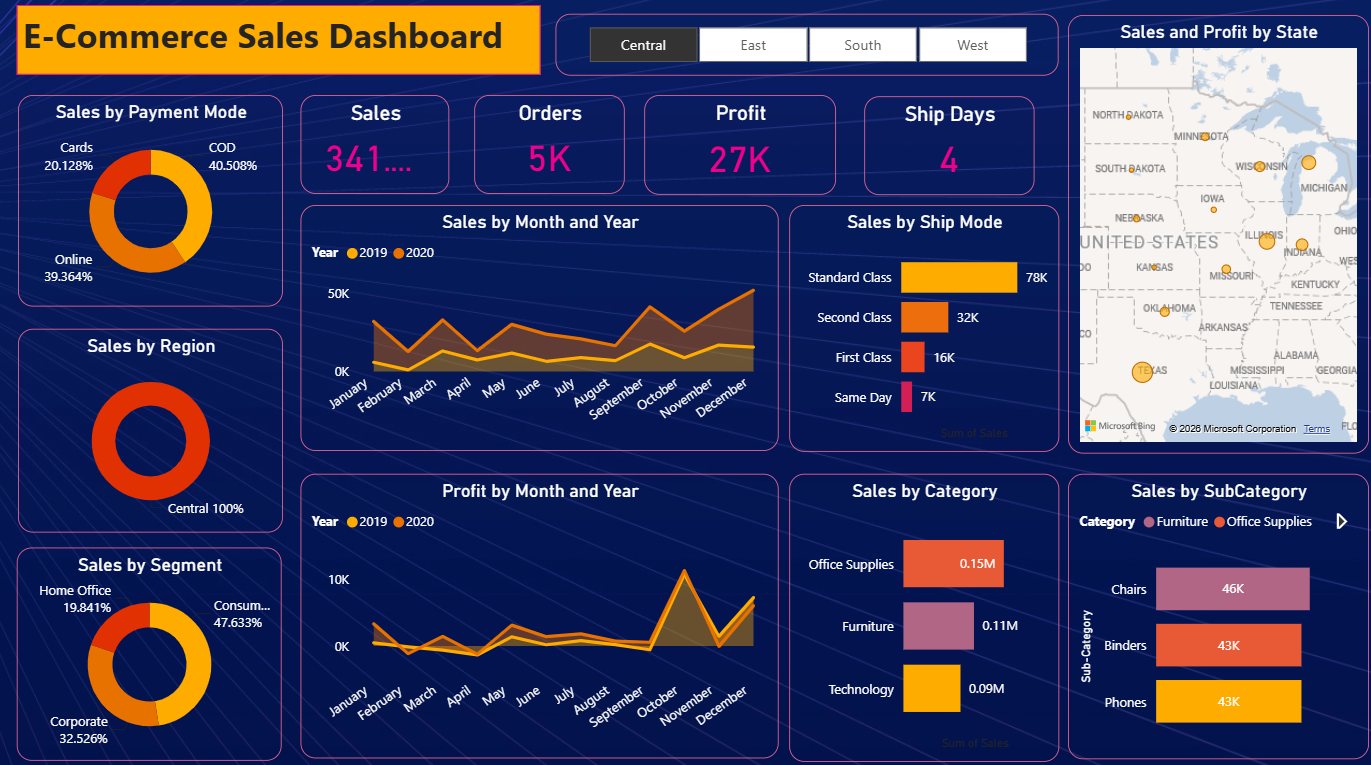

What the dashboard file says about the page in this screenshot:
{"tool":"powerbi","page":{"name":"Page 1","canvas":[1280,720],"ordinal":0},"visuals":[{"type":"clusteredBarChart","title":" Sales by Category","fields":{"Category":["SuperStore_Sales_Dataset.Category"],"Y":["Sum(SuperStore_Sales_Dataset.Sales)"]},"box":[735.9,445.2,250.9,267.8],"z":0},{"type":"barChart","title":" Sales by SubCategory","fields":{"Category":["SuperStore_Sales_Dataset.Sub-Category"],"Series":["SuperStore_Sales_Dataset.Category"],"Y":["Sum(SuperStore_Sales_Dataset.Sales)"]},"box":[995.3,445.2,279.9,265.4],"z":1000},{"type":"clusteredBarChart","title":" Sales by Ship Mode","fields":{"Category":["SuperStore_Sales_Dataset.Ship Mode"],"Y":["Sum(SuperStore_Sales_Dataset.Sales)"]},"box":[735.9,195.4,250.9,229.2],"z":2000},{"type":"stackedAreaChart","title":" Sales by Month and Year","fields":{"Category":["SuperStore_Sales_Dataset.Order Date.Variation.Date Hierarchy.Month","SuperStore_Sales_Dataset.Order Date.Variation.Date Hierarchy.Day"],"Series":["SuperStore_Sales_Dataset.Order Date.Variation.Date Hierarchy.Year"],"Y":["Sum(SuperStore_Sales_Dataset.Sales)"]},"box":[281.2,195,445,228.8],"z":3000},{"type":"stackedAreaChart","title":"Profit by Month and Year","fields":{"Category":["SuperStore_Sales_Dataset.Order Date.Variation.Date Hierarchy.Month","SuperStore_Sales_Dataset.Order Date.Variation.Date Hierarchy.Day"],"Series":["SuperStore_Sales_Dataset.Order Date.Variation.Date Hierarchy.Year"],"Y":["Sum(SuperStore_Sales_Dataset.Profit)"]},"box":[281.2,445,445,265],"z":4000},{"type":"donutChart","title":"Sales by Segment","fields":{"Category":["SuperStore_Sales_Datasetx.Segment"],"Y":["Sum(SuperStore_Sales_Datasetx.Sales)"]},"box":[17.4,514.3,246.6,198],"z":5000},{"type":"donutChart","title":"Sales by Payment Mode","fields":{"Category":["SuperStore_Sales_Datasetx.Payment Mode"],"Y":["Sum(SuperStore_Sales_Datasetx.Sales)"]},"box":[18.7,93.4,246.6,196.8],"z":6000},{"type":"donutChart","title":"Sales by Region","fields":{"Category":["SuperStore_Sales_Datasetx.Region"],"Y":["Sum(SuperStore_Sales_Datasetx.Sales)"]},"box":[18.7,310.1,246.6,189.3],"z":7000},{"type":"slicer","fields":{"Values":["SuperStore_Sales_Datasetx.Region"]},"box":[518.8,16.9,468.1,57.9],"z":8000},{"type":"cardVisual","title":" Sales","fields":{"Data":["Sum(SuperStore_Sales_Dataset.Sales)"]},"box":[281.1,92.9,138.7,91.7],"z":9000},{"type":"cardVisual","title":"Orders","fields":{"Data":["Sum(SuperStore_Sales_Dataset.Quantity)"]},"box":[442.8,92.9,139.9,91.7],"z":10000},{"type":"cardVisual","title":"Profit","fields":{"Data":["Sum(SuperStore_Sales_Dataset.Profit)"]},"box":[600.8,92.9,178.6,92.9],"z":11000},{"type":"cardVisual","title":"Ship Days","fields":{"Data":["Avg(SuperStore_Sales_Dataset.AvgDelivery)"]},"box":[805.9,94.1,158,91.7],"z":12000},{"type":"map","title":"Sales and  Profit by State","fields":{"Category":["SuperStore_Sales_Dataset.State"],"Size":["Sum(SuperStore_Sales_Dataset.Sales)"]},"box":[995.3,18.1,279.9,407.8],"z":13000},{"type":"textbox","box":[16.9,9.7,487.4,65.1],"z":14000}]}

Visuals, with their boxes in screenshot pixels (x1, y1, x2, y2), scaled from the page's 1280x720 canvas onto the 1371x765 screenshot:
" Sales by Category" clusteredBarChart: bbox=(788, 473, 1057, 758)
" Sales by SubCategory" barChart: bbox=(1066, 473, 1366, 755)
" Sales by Ship Mode" clusteredBarChart: bbox=(788, 208, 1057, 451)
" Sales by Month and Year" stackedAreaChart: bbox=(301, 207, 778, 450)
"Profit by Month and Year" stackedAreaChart: bbox=(301, 473, 778, 754)
"Sales by Segment" donutChart: bbox=(19, 546, 283, 757)
"Sales by Payment Mode" donutChart: bbox=(20, 99, 284, 308)
"Sales by Region" donutChart: bbox=(20, 329, 284, 531)
slicer - SuperStore_Sales_Datasetx.Region: bbox=(556, 18, 1057, 79)
" Sales" cardVisual: bbox=(301, 99, 450, 196)
"Orders" cardVisual: bbox=(474, 99, 624, 196)
"Profit" cardVisual: bbox=(644, 99, 835, 197)
"Ship Days" cardVisual: bbox=(863, 100, 1032, 197)
"Sales and  Profit by State" map: bbox=(1066, 19, 1366, 453)
textbox: bbox=(18, 10, 540, 79)
